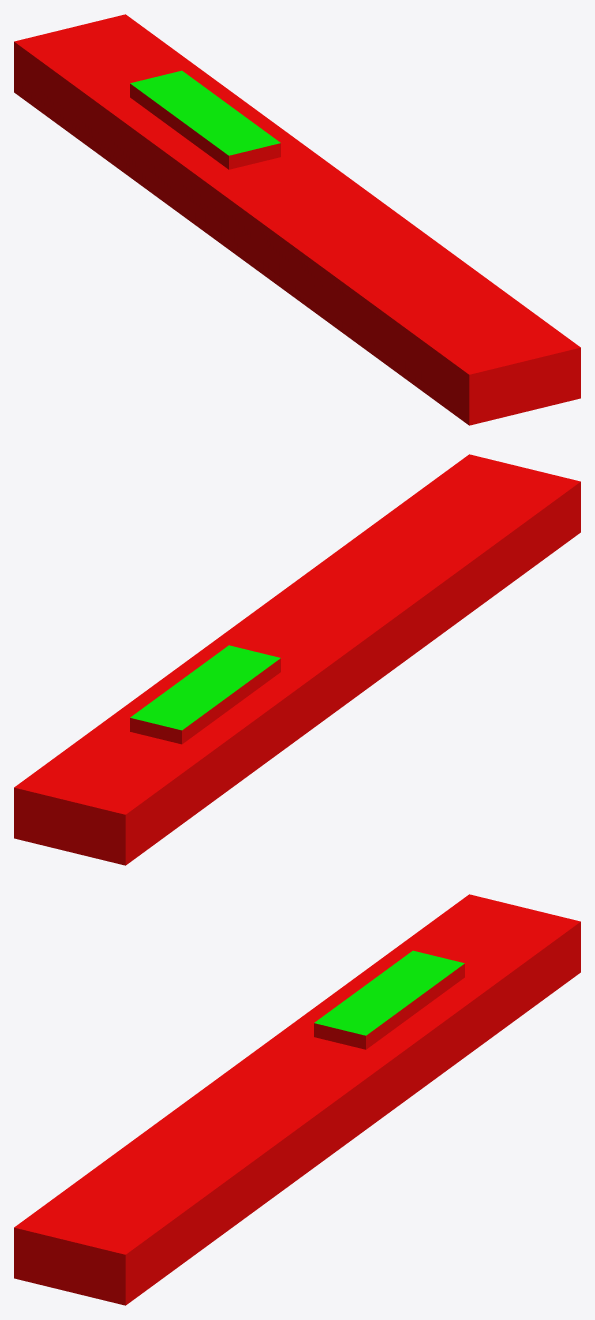
File: labeled.obj
3 views of the same model, one above another, from view 1: azimuth 30°, elevation 25°; view 2: azimuth 150°, elevation 25°; view 3: azimuth 330°, elevation 25° (orthographic).
Size of the model in its own units: 0.0202 by 0.0112 by 0.1424.
